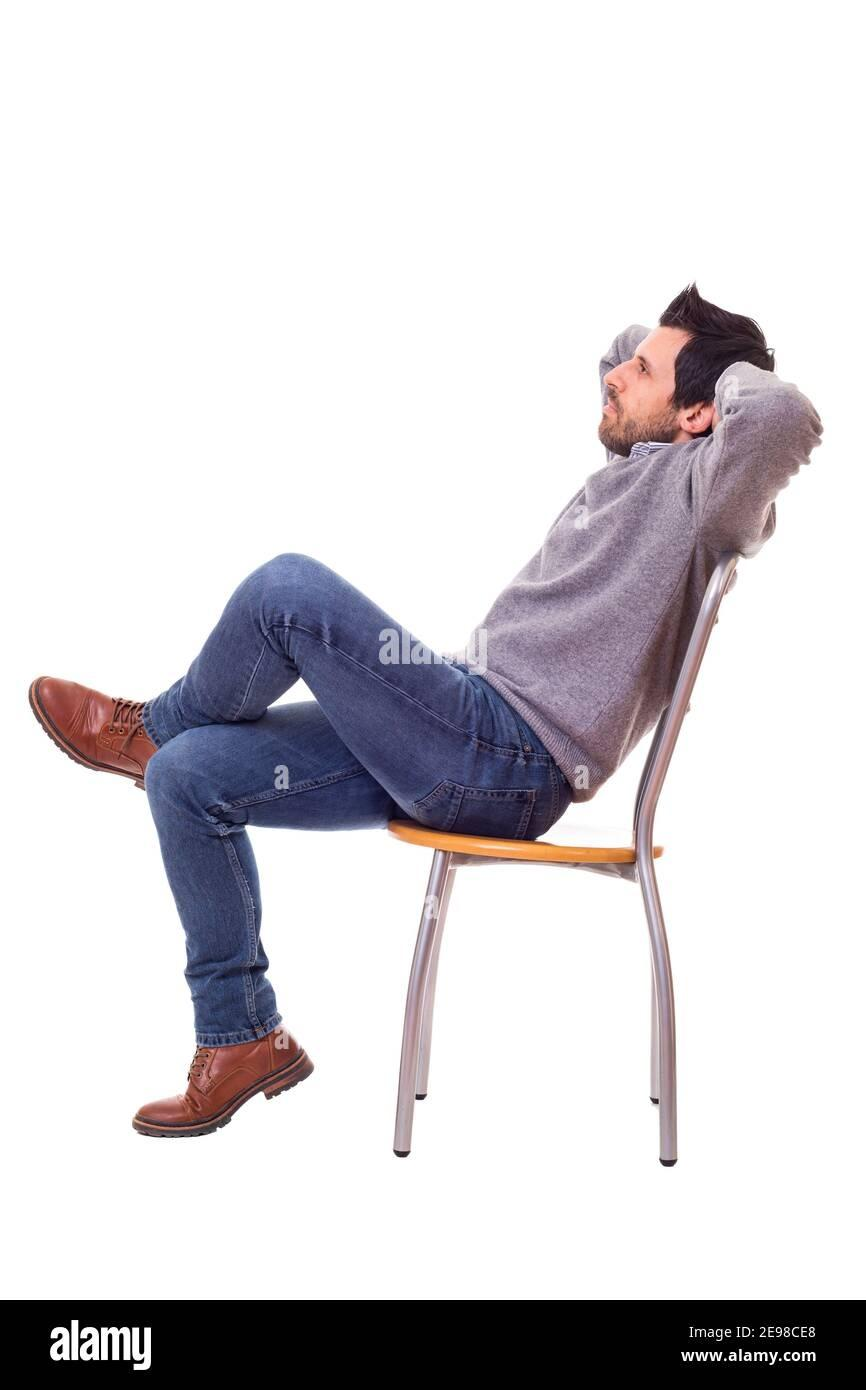bad-pose: (0, 0, 866, 1390)
